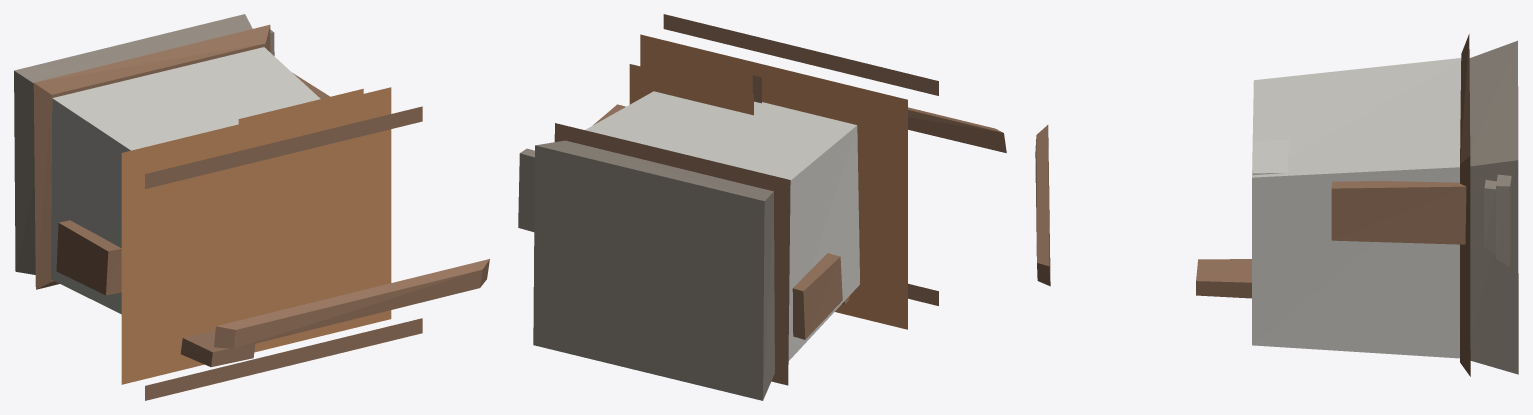
The model's file is cartoon_house.glb.
3 views of the same model, side by side, from view 1: azimuth 30°, elevation 25°; view 2: azimuth 150°, elevation 25°; view 3: azimuth 270°, elevation 25° (orthographic). The views are drawn at different scales.
Visible parts, largest first — view 1: geometry_0; view 2: geometry_0; view 3: geometry_0.
Part boxes in pixels (<box>): geometry_0: <box>14,14,489,400</box>; geometry_0: <box>518,14,1006,400</box>; geometry_0: <box>1035,34,1518,376</box>.
Size of the model in its own units: 2.88 by 2.3 by 4.1.
